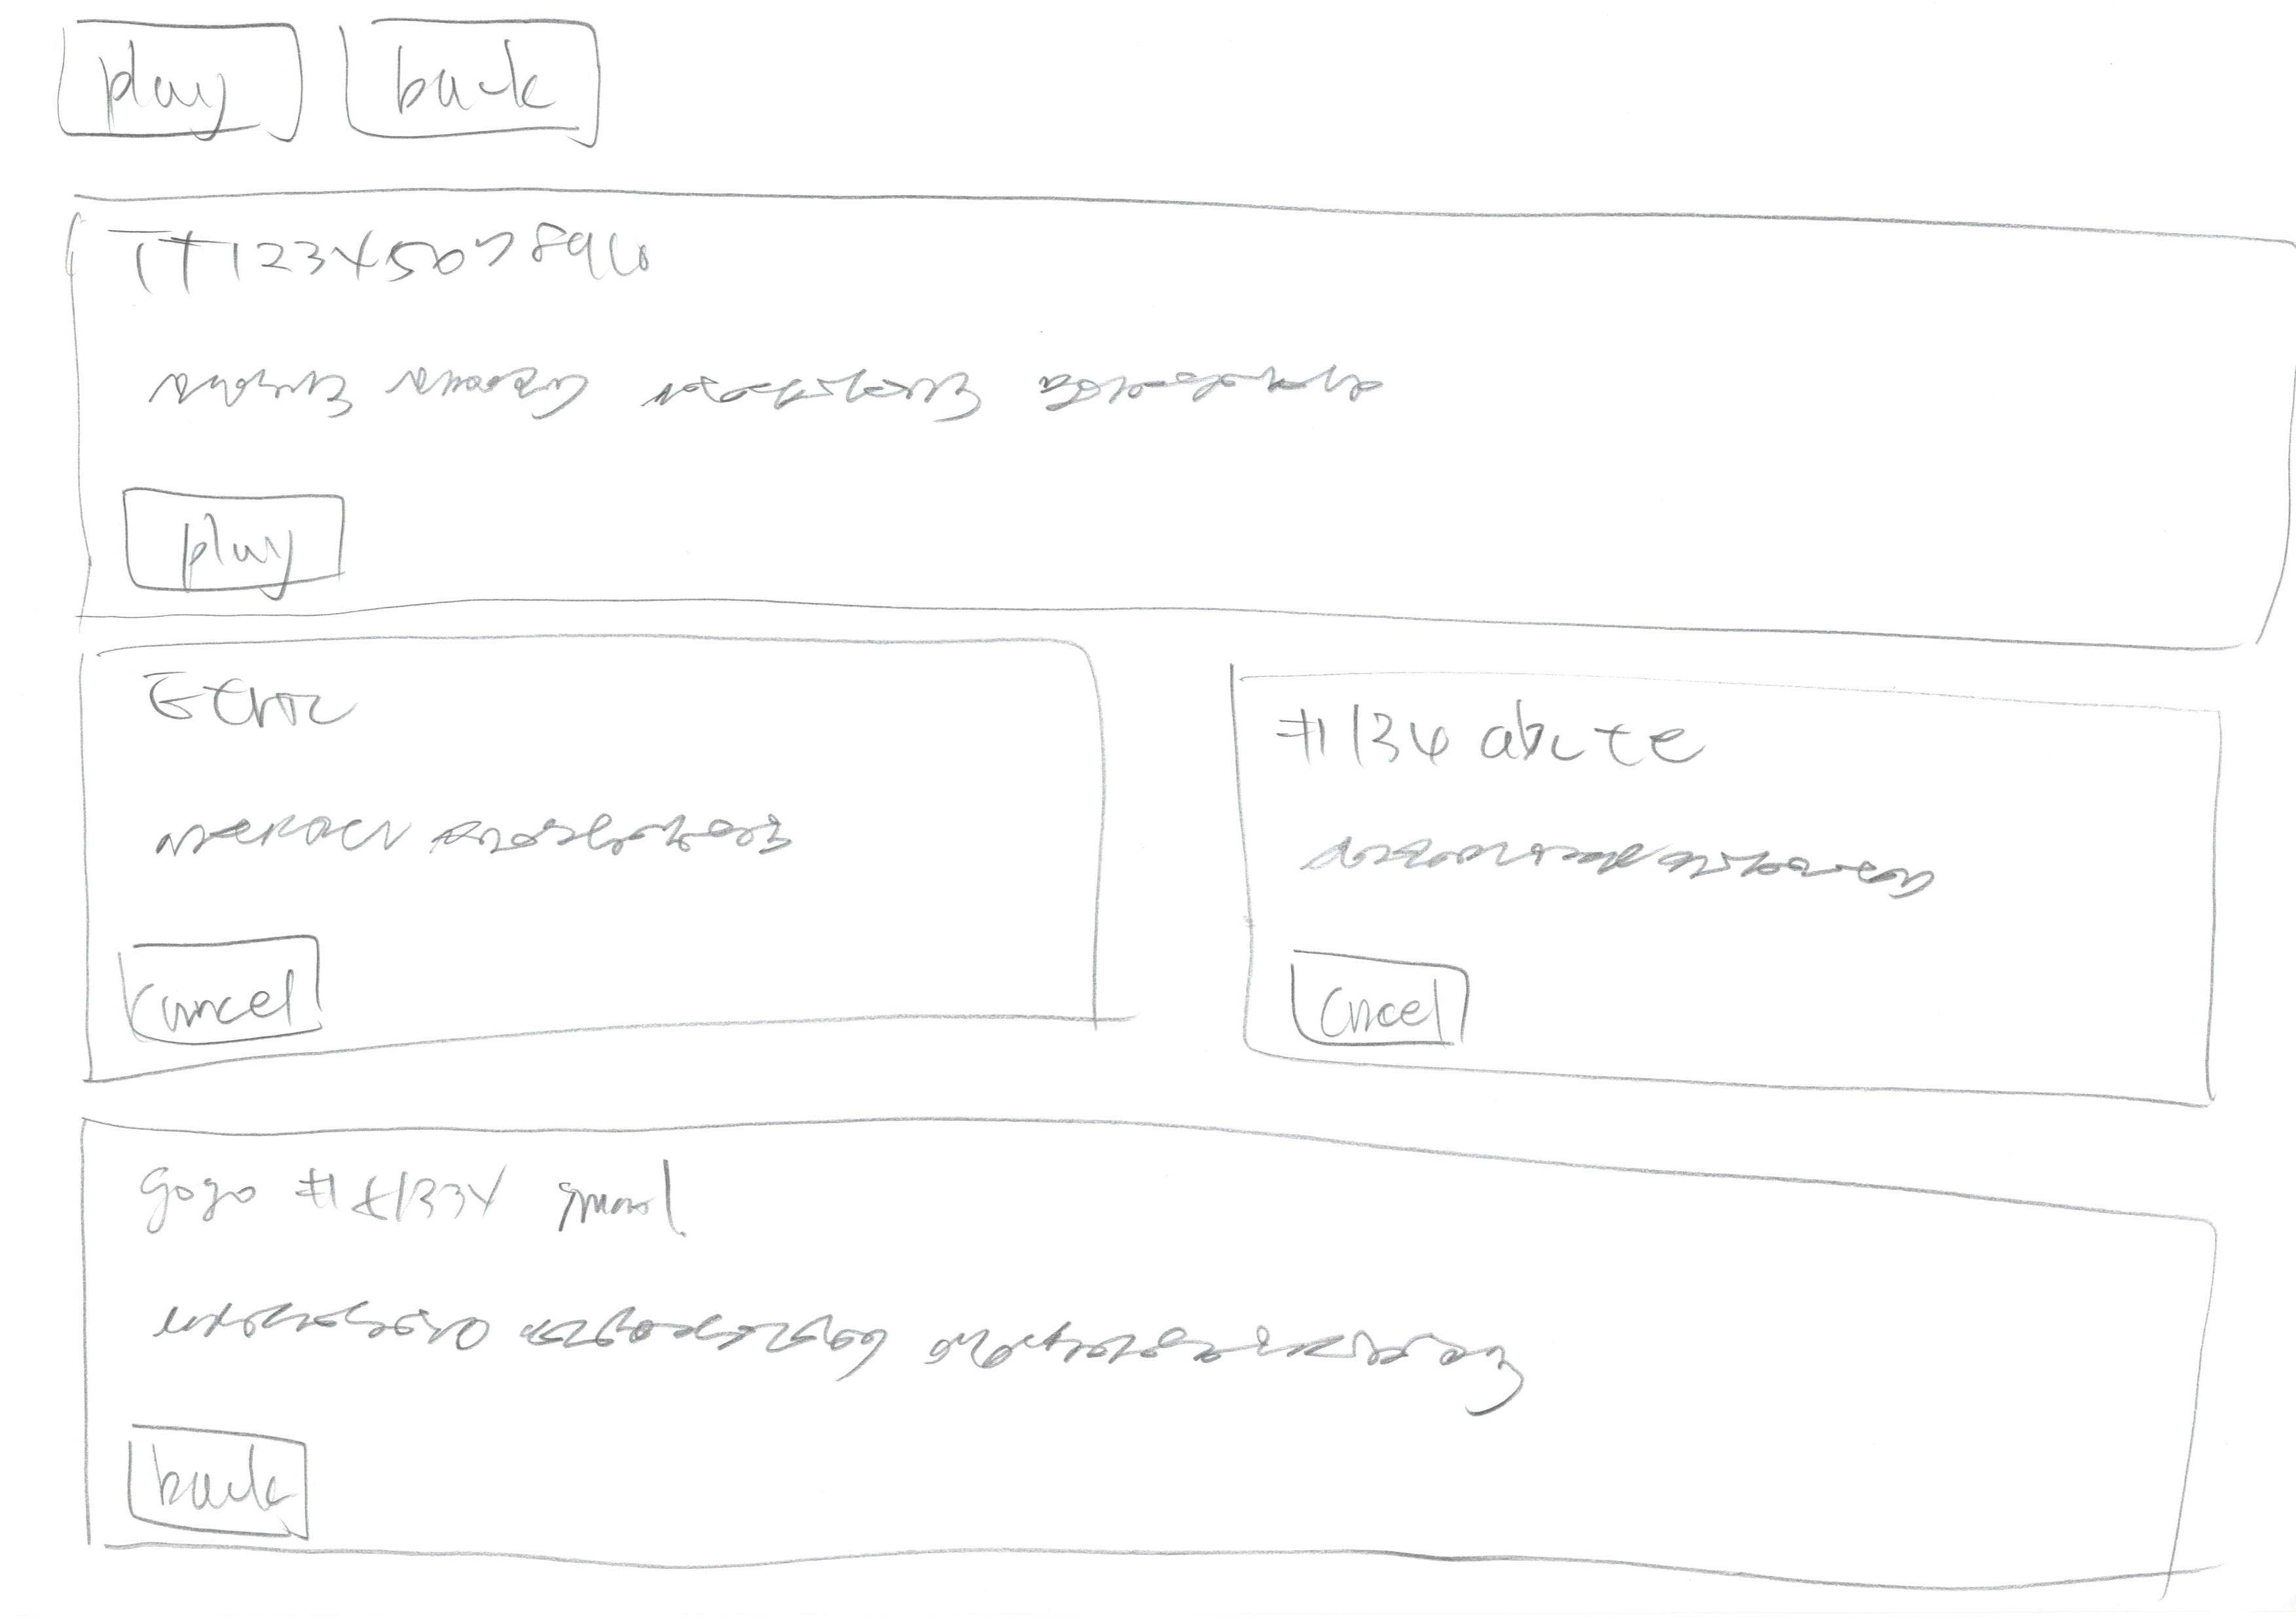back: (332, 0, 654, 185), (113, 1417, 353, 1573)
cancel: (111, 910, 387, 1083), (1266, 924, 1526, 1084)
double: (16, 608, 1148, 1100), (1206, 645, 2296, 1153)
play: (35, 4, 320, 169), (113, 469, 378, 613)
row: (7, 169, 2296, 668), (7, 617, 2296, 1116), (7, 1088, 2296, 1585), (2, 0, 2291, 192)
single: (54, 167, 2296, 691), (35, 1093, 2296, 1612)
small-title: (105, 1146, 723, 1258), (107, 211, 645, 297), (1292, 689, 1716, 784), (144, 656, 380, 752)
text: (151, 1295, 1531, 1399), (153, 369, 1457, 452), (146, 798, 817, 877), (1322, 826, 1971, 900)
